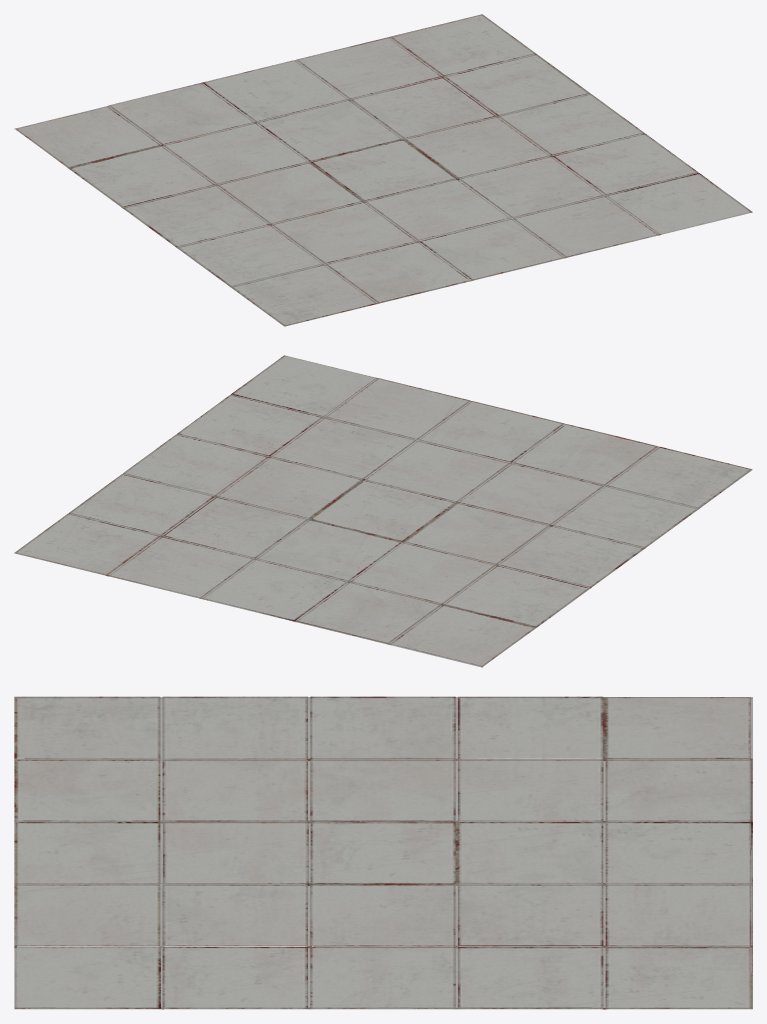
File: SM_Ceiling_Grid04.fbx
3 views of the same model, one above another, from view 1: azimuth 30°, elevation 25°; view 2: azimuth 150°, elevation 25°; view 3: azimuth 270°, elevation 25° (orthographic). The views are drawn at different scales.
Visible parts, largest first — view 1: SM_Ceiling_Grid04_LOD0; view 2: SM_Ceiling_Grid04_LOD0; view 3: SM_Ceiling_Grid04_LOD0.
Boxes of the visible parts, <box> form: SM_Ceiling_Grid04_LOD0: <box>14,14,752,326</box>; SM_Ceiling_Grid04_LOD0: <box>14,355,752,667</box>; SM_Ceiling_Grid04_LOD0: <box>14,696,752,1009</box>.
Bounding box in the file's own units: 300 × 300 × 0.6813.
